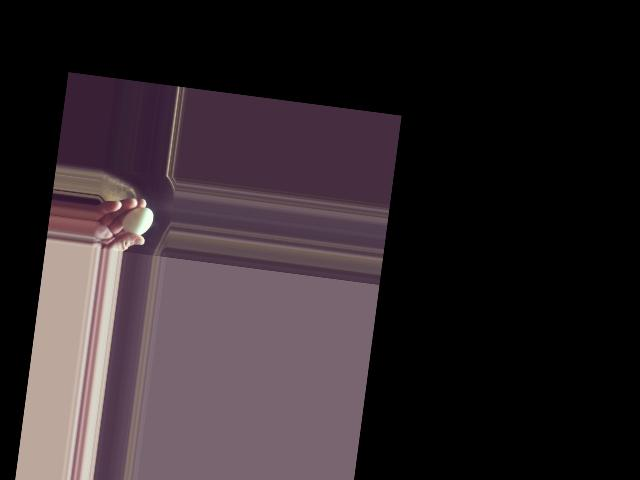egg: (121, 205, 154, 237)
